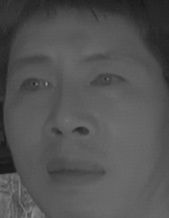eye: (89, 67, 126, 97), (16, 74, 55, 98)
mouth: (41, 151, 107, 190)
